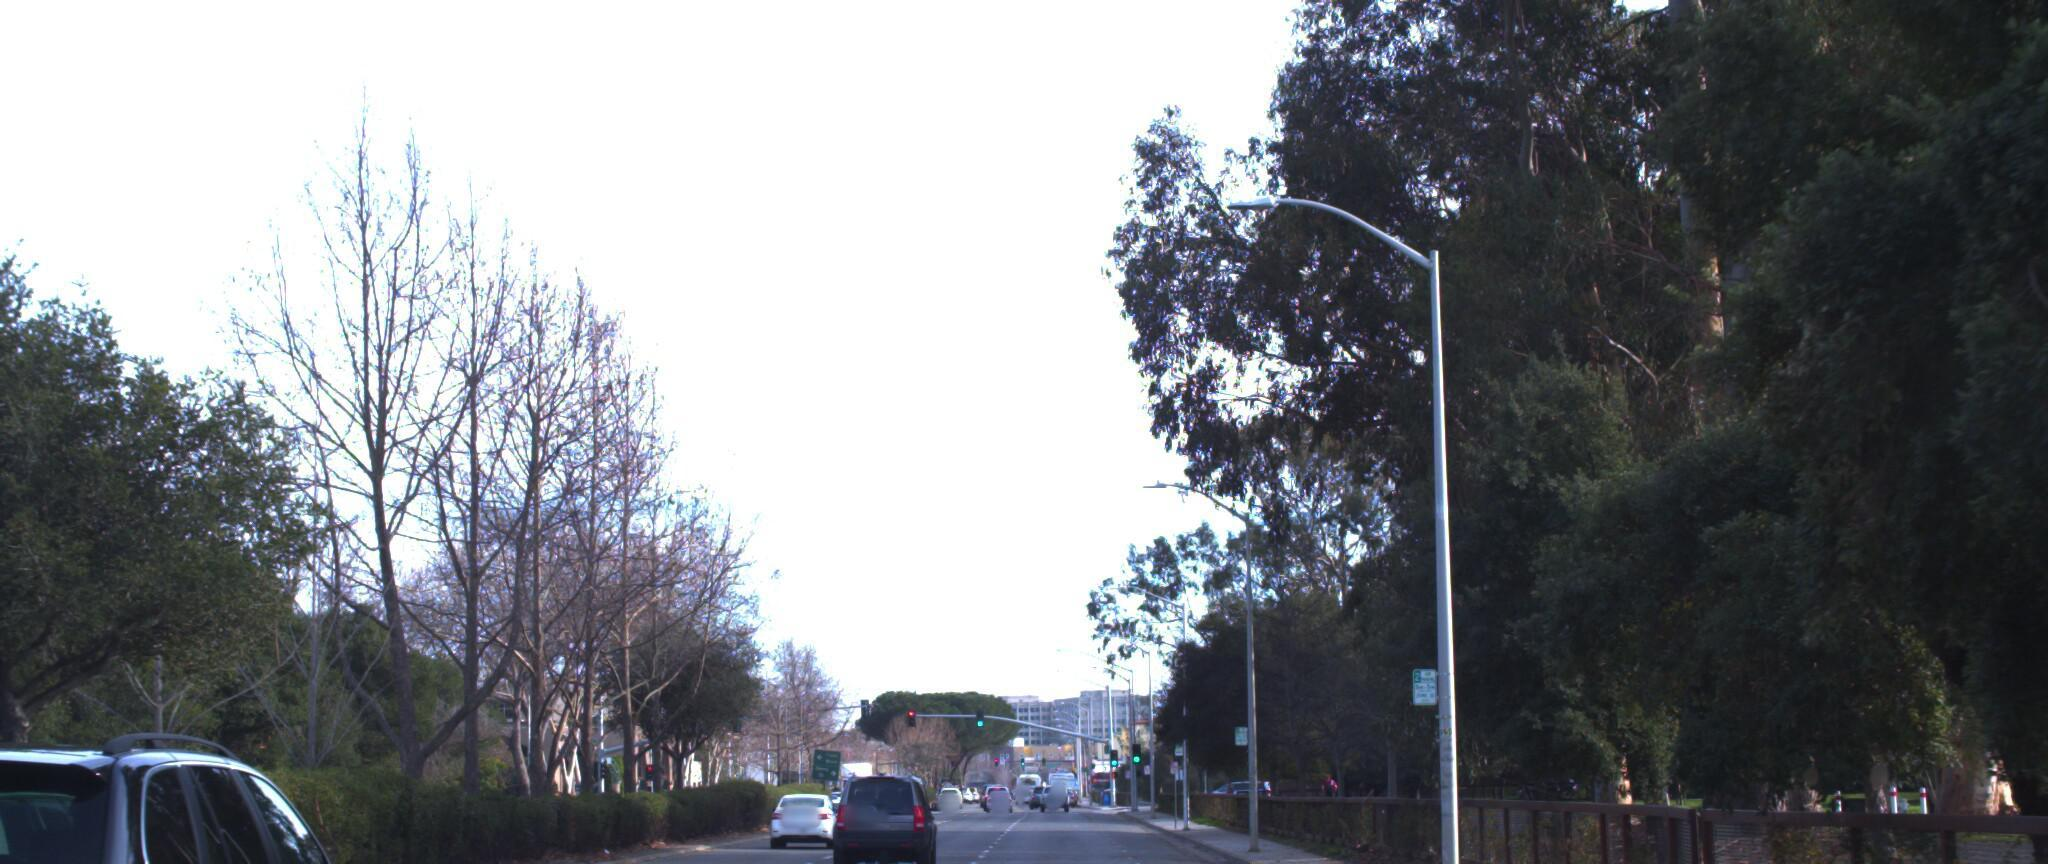car: (0, 733, 451, 864), (829, 760, 939, 864), (764, 777, 848, 851)
